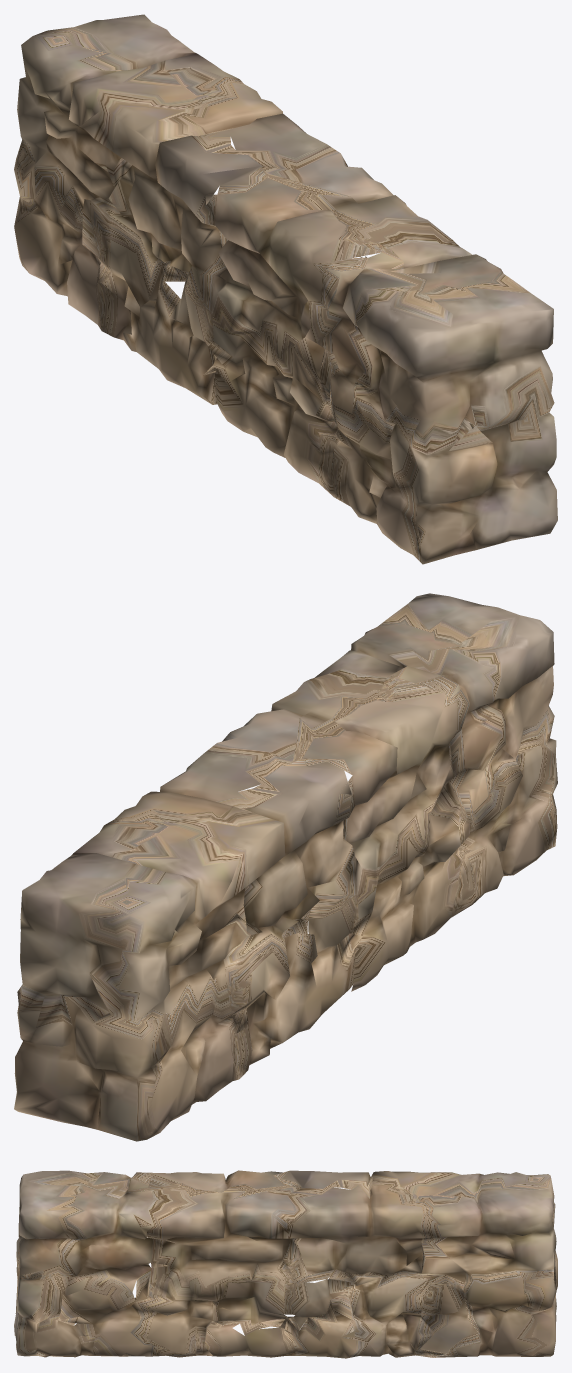
File: low-wall-perimeter.glb
The picture shows the model from 3 angles, top to bottom: view 1: azimuth 30°, elevation 25°; view 2: azimuth 150°, elevation 25°; view 3: azimuth 270°, elevation 25°; orthographic projection. The views are drawn at different scales.
Parts seen in each view (by area): view 1: tripo_node_e17d26ce-5ecd-46d4-9822-f97adb7ac5c1; view 2: tripo_node_e17d26ce-5ecd-46d4-9822-f97adb7ac5c1; view 3: tripo_node_e17d26ce-5ecd-46d4-9822-f97adb7ac5c1.
Boxes of the visible parts, bbox=[...] form: tripo_node_e17d26ce-5ecd-46d4-9822-f97adb7ac5c1: bbox=[14, 14, 557, 564]; tripo_node_e17d26ce-5ecd-46d4-9822-f97adb7ac5c1: bbox=[14, 593, 557, 1141]; tripo_node_e17d26ce-5ecd-46d4-9822-f97adb7ac5c1: bbox=[14, 1170, 557, 1358].
Bounding box in the file's own units: 0.2032 × 0.3 × 0.999.
1 material, 1 textured.
